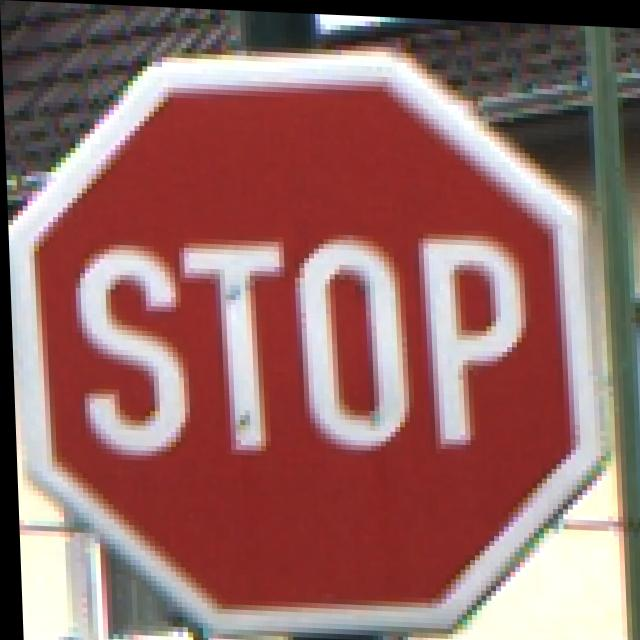stop: (1, 27, 585, 634)
